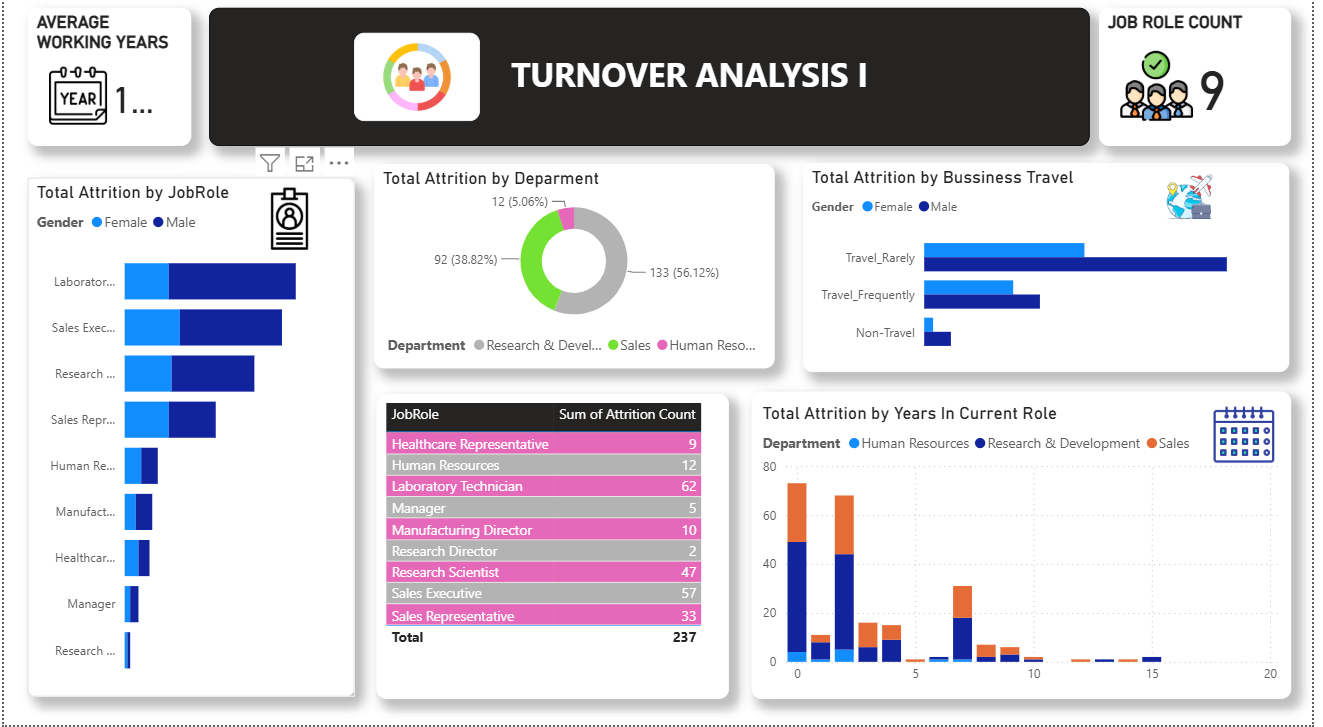

The dashboard page shown, as its layout file describes it:
{"tool":"powerbi","page":{"name":"Page 3","canvas":[1280,720],"ordinal":2},"visuals":[{"type":"group","id":"g1","title":"Group 1","box":[200,18.3,861.7,135],"z":0},{"type":"shape","box":[200,18.3,861.7,135],"z":0,"group":"g1"},{"type":"clusteredBarChart","title":"Total Attrition by Bussiness Travel","fields":{"Y":["Sum(HR-Employee-Attrition.Attrition Count)"],"Series":["HR-Employee-Attrition.Gender"],"Category":["HR-Employee-Attrition.BusinessTravel"]},"box":[781.7,170,476.3,204.5],"z":0,"group":"g3"},{"type":"barChart","title":"Total Attrition by JobRole","fields":{"Category":["HR-Employee-Attrition.JobRole"],"Y":["Sum(HR-Employee-Attrition.Attrition Count)"],"Series":["HR-Employee-Attrition.Gender"]},"box":[23.3,185,320,507.7],"z":0,"group":"g2"},{"type":"image","box":[341.7,43.3,123.3,86.7],"z":500,"group":"g1"},{"type":"textbox","box":[480,56.1,380,60],"z":1000,"group":"g1"},{"type":"image","box":[1105.7,176.1,109.1,54.6],"z":1000,"group":"g3"},{"type":"group","id":"g2","title":"Group 2","box":[23.3,185,320,507.7],"z":1000},{"type":"image","box":[242,189,75,73.3],"z":1000,"group":"g2"},{"type":"columnChart","title":"Total Attrition by Years In Current Role","fields":{"Y":["Sum(HR-Employee-Attrition.Attrition Count)"],"Category":["HR-Employee-Attrition.YearsInCurrentRole"],"Series":["HR-Employee-Attrition.Department"]},"box":[731.7,394,528.3,301],"z":1000,"group":"g4"},{"type":"image","box":[1168.4,395,90,78.3],"z":1500,"group":"g4"},{"type":"group","id":"g3","title":"Group 3","box":[781.7,170,476.7,204],"z":2000},{"type":"tableEx","title":"Total Attrition by Bussiness Travel","fields":{"Values":["HR-Employee-Attrition.JobRole","Sum(HR-Employee-Attrition.Attrition Count)"]},"box":[364.3,395.7,345,298.3],"z":3000},{"type":"donutChart","title":"Total Attrition by Deparment","fields":{"Y":["Sum(HR-Employee-Attrition.Attrition Count)"],"Category":["HR-Employee-Attrition.Department"]},"box":[362.3,171,391.7,200],"z":4000},{"type":"cardVisual","title":"JOB ROLE COUNT","fields":{"Data":["Count(HR-Employee-Attrition.JobRole)"]},"box":[1071.7,18.3,188.3,135],"z":5000},{"type":"cardVisual","title":"AVERAGE WORKING YEARS","fields":{"Data":["Avg(HR-Employee-Attrition.TotalWorkingYears)"]},"box":[23.3,18.3,160,135],"z":6000},{"type":"group","id":"g4","title":"Group 4","box":[731.7,394,528.3,301],"z":7000}]}

Visuals, with their boxes in screenshot pixels (x1, y1, x2, y2), scaled from the page's 1280x720 canvas onto the 1323x727 screenshot:
"Group 1" group: detection(207, 18, 1097, 155)
shape: detection(207, 18, 1097, 155)
"Total Attrition by Bussiness Travel" clusteredBarChart: detection(808, 172, 1300, 378)
"Total Attrition by JobRole" barChart: detection(24, 187, 355, 699)
image: detection(353, 44, 481, 131)
textbox: detection(496, 57, 889, 117)
image: detection(1143, 178, 1256, 233)
"Group 2" group: detection(24, 187, 355, 699)
image: detection(250, 191, 328, 265)
"Total Attrition by Years In Current Role" columnChart: detection(756, 398, 1302, 702)
image: detection(1208, 399, 1301, 478)
"Group 3" group: detection(808, 172, 1301, 378)
"Total Attrition by Bussiness Travel" tableEx: detection(377, 400, 733, 701)
"Total Attrition by Deparment" donutChart: detection(374, 173, 779, 375)
"JOB ROLE COUNT" cardVisual: detection(1108, 18, 1302, 155)
"AVERAGE WORKING YEARS" cardVisual: detection(24, 18, 189, 155)
"Group 4" group: detection(756, 398, 1302, 702)
